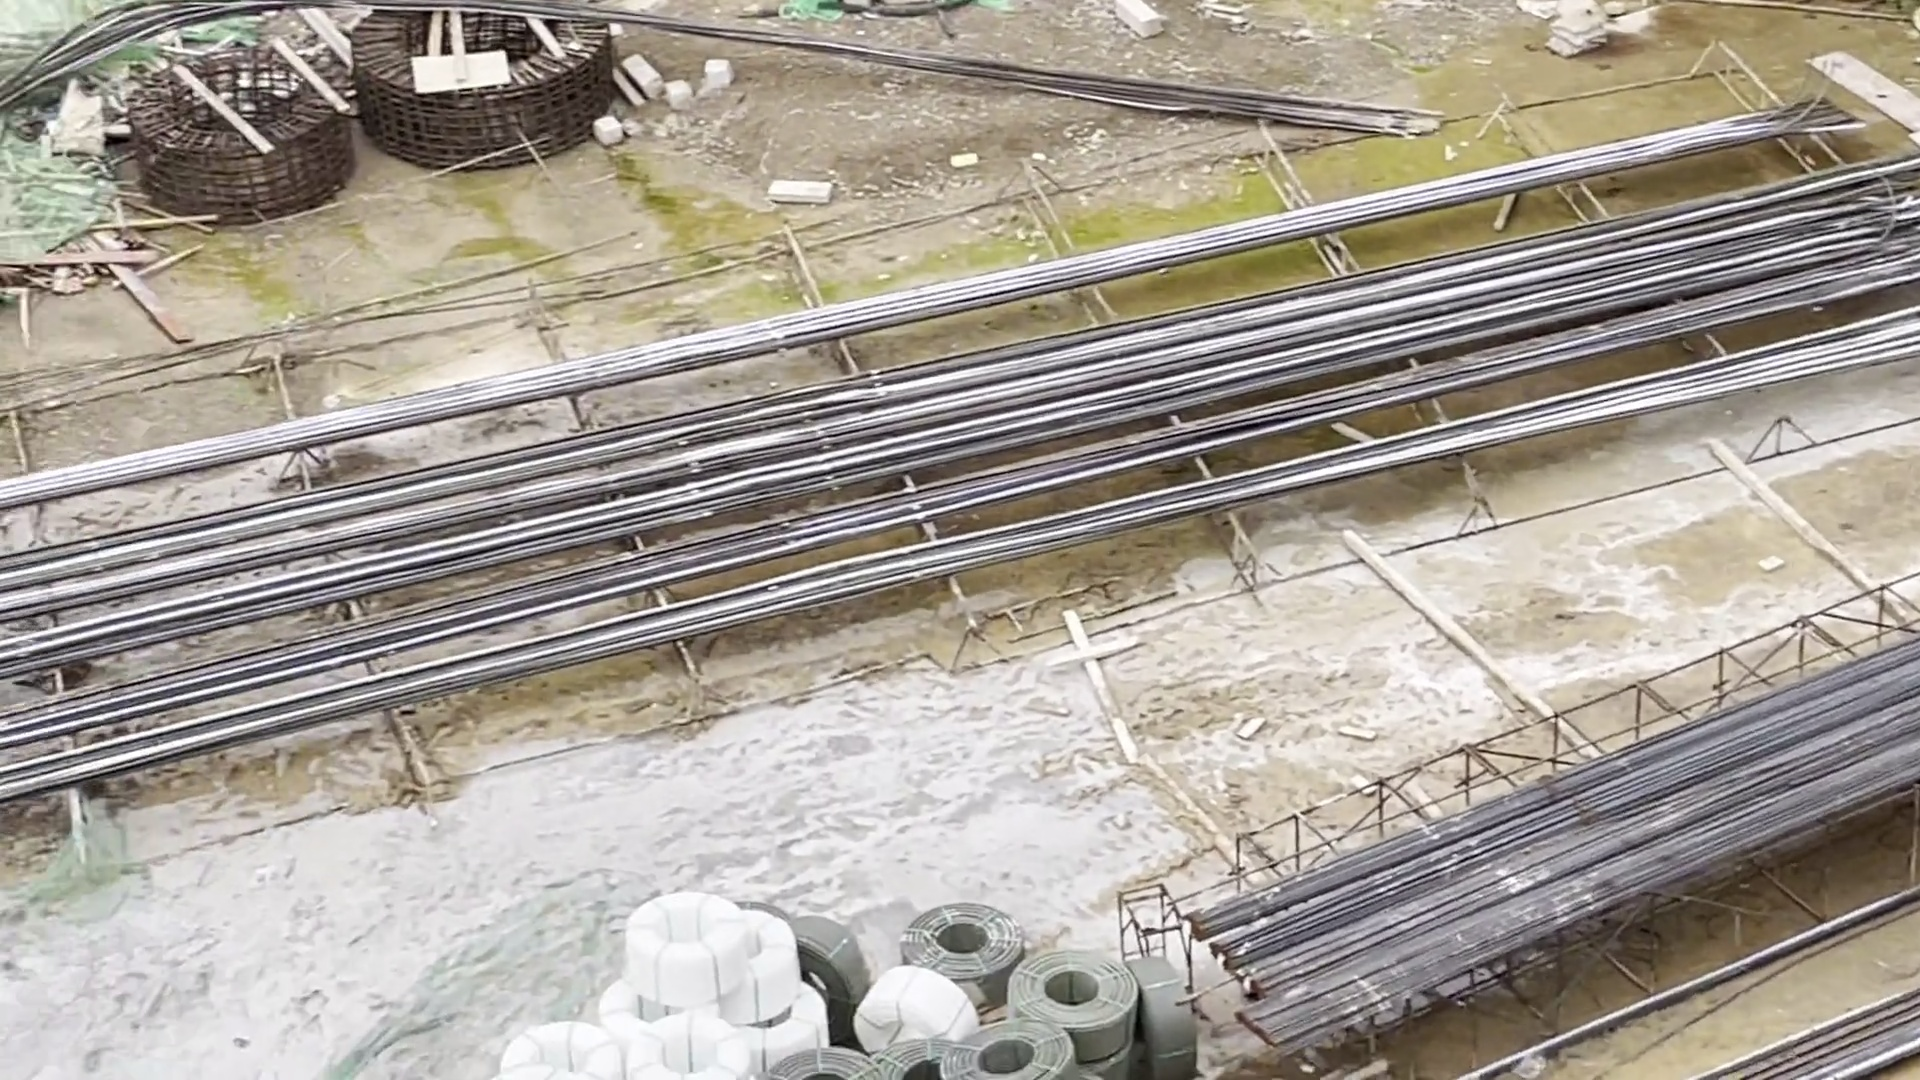rebar: (1, 400, 1039, 750), (1195, 609, 1920, 1059), (1044, 150, 1920, 476)
